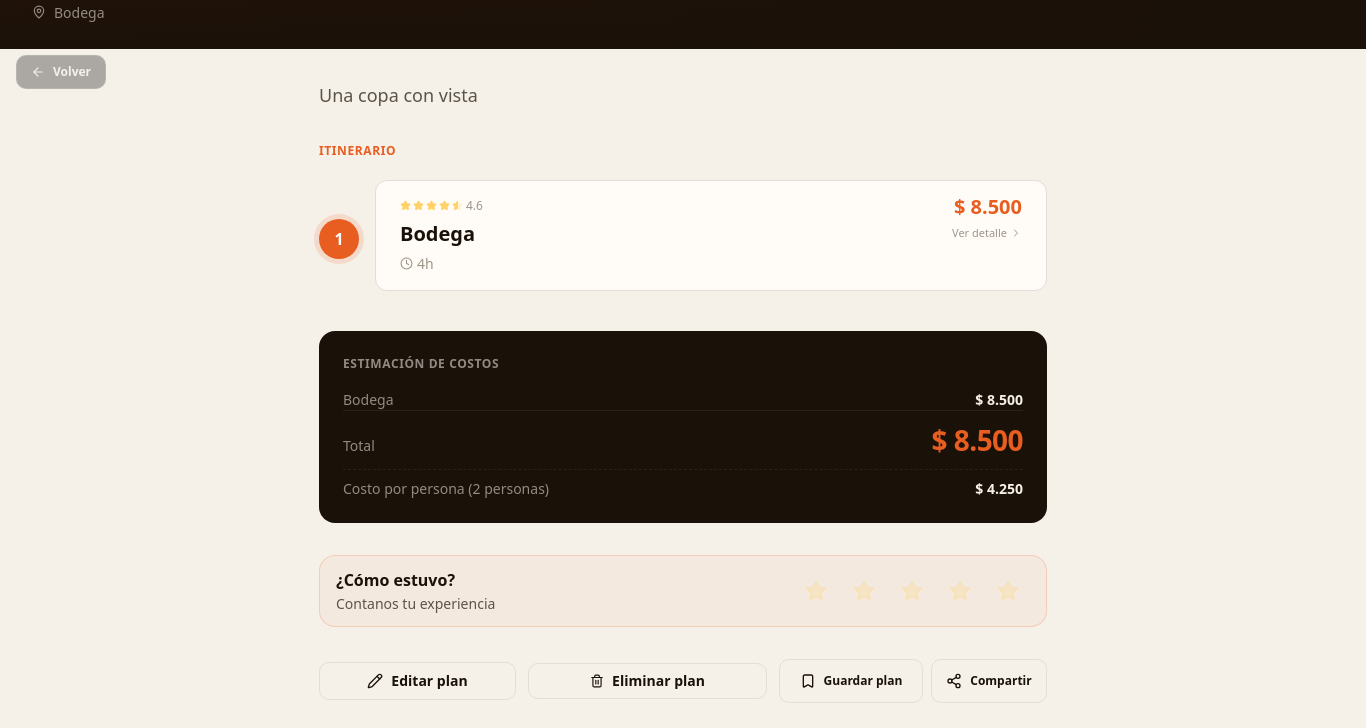
Test: PlanDetailView — feedback (CU23, PAN 17) › reconciles the owner surface when feedback already exists
(page scrolled)
Click the radio button named "4 estrellas — Muy bueno".
click(960, 591)  # box [938,569,982,613]
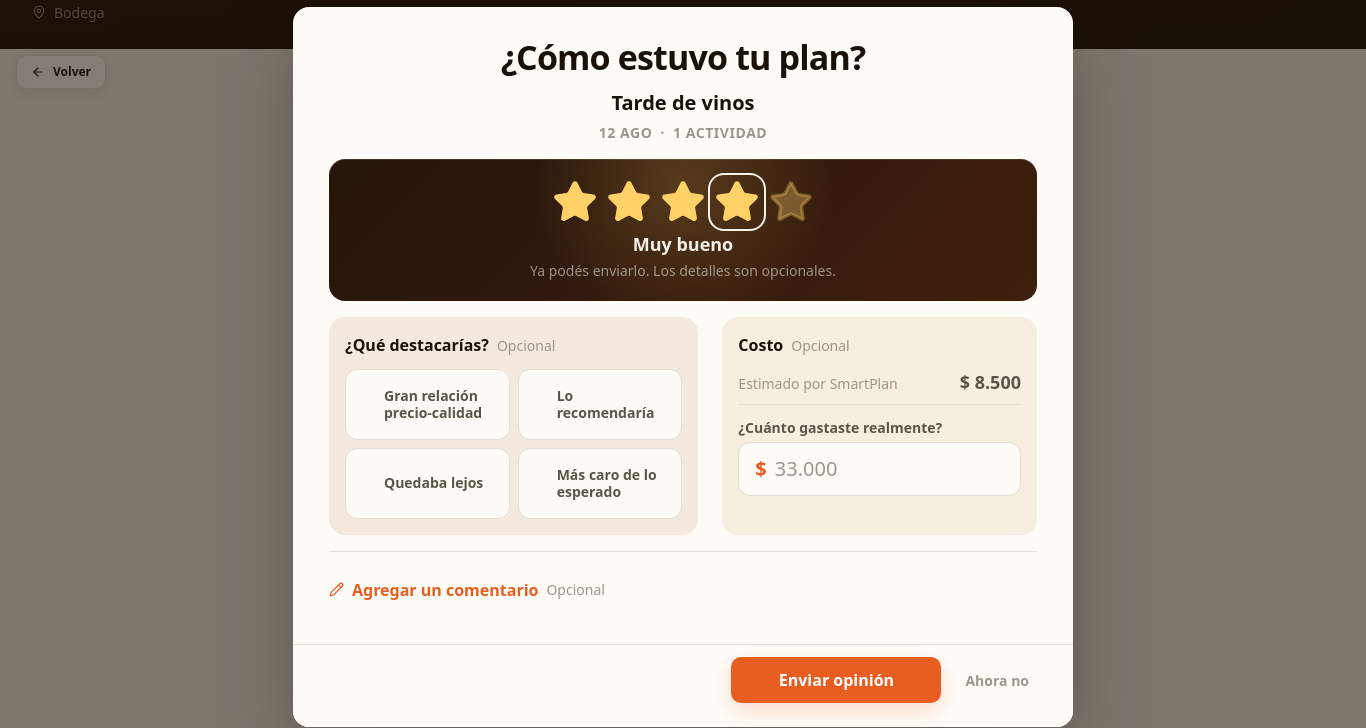
Click the button "Enviar opinión".
click(836, 680)  # box [731,657,941,703]
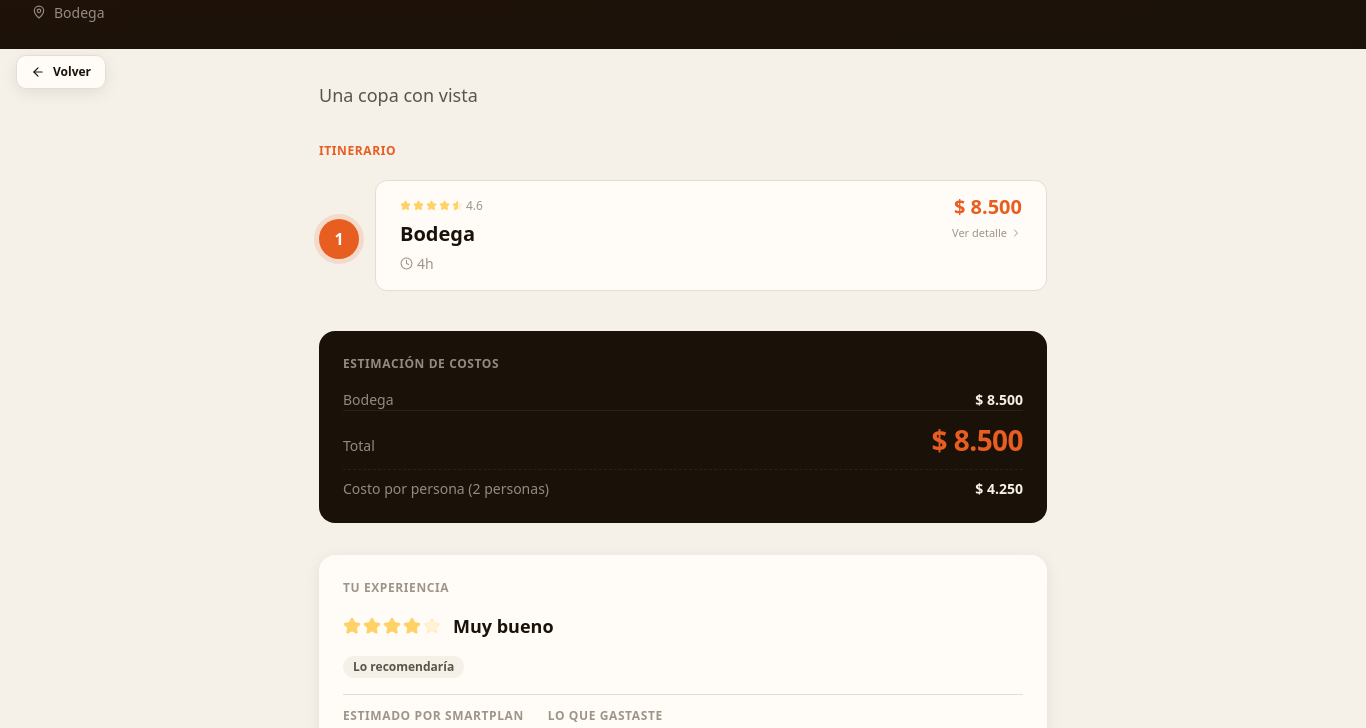
Expected: the text "Tu experiencia" is shown, [343,579,449,596]
Now the dialog is gone
